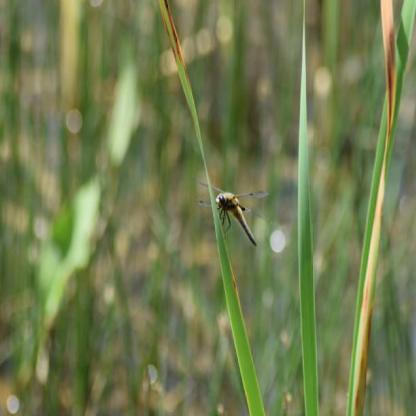sawfly: (184, 163, 276, 256)
